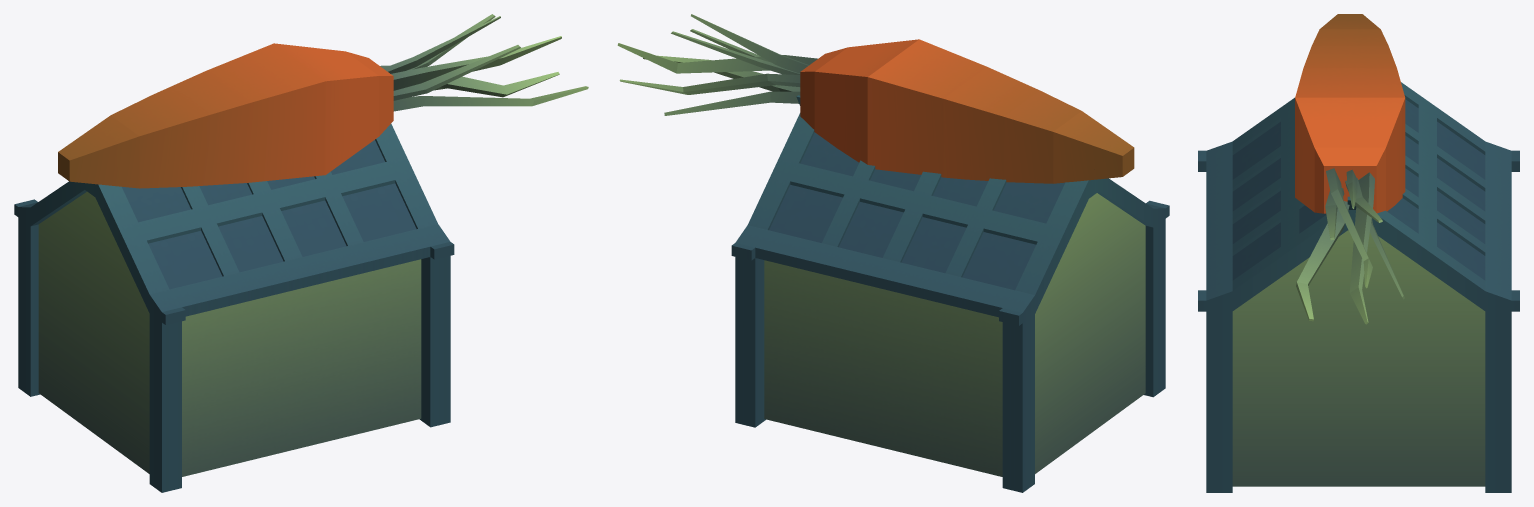
The model's file is ItemProps_House_carrot.fbx.
The picture shows the model from 3 angles, left to right: view 1: azimuth 30°, elevation 25°; view 2: azimuth 150°, elevation 25°; view 3: azimuth 270°, elevation 25°; orthographic projection. The views are drawn at different scales.
Parts seen in each view (by area): view 1: Cube.020, Cube.019, Cube.008; view 2: Cube.020, Cube.019, Cube.008; view 3: Cube.020, Cube.019, Cube.008.
Boxes of the visible parts, x1,y1,x2,y2 form: Cube.020: (38, 191, 421, 476); Cube.019: (14, 123, 454, 492); Cube.008: (58, 14, 588, 188); Cube.020: (764, 193, 1145, 476); Cube.019: (731, 95, 1169, 492); Cube.008: (617, 14, 1134, 183); Cube.020: (1232, 230, 1485, 486); Cube.019: (1198, 82, 1519, 492); Cube.008: (1295, 14, 1405, 324).
Size of the model in its own units: 1213 by 759 by 628.
